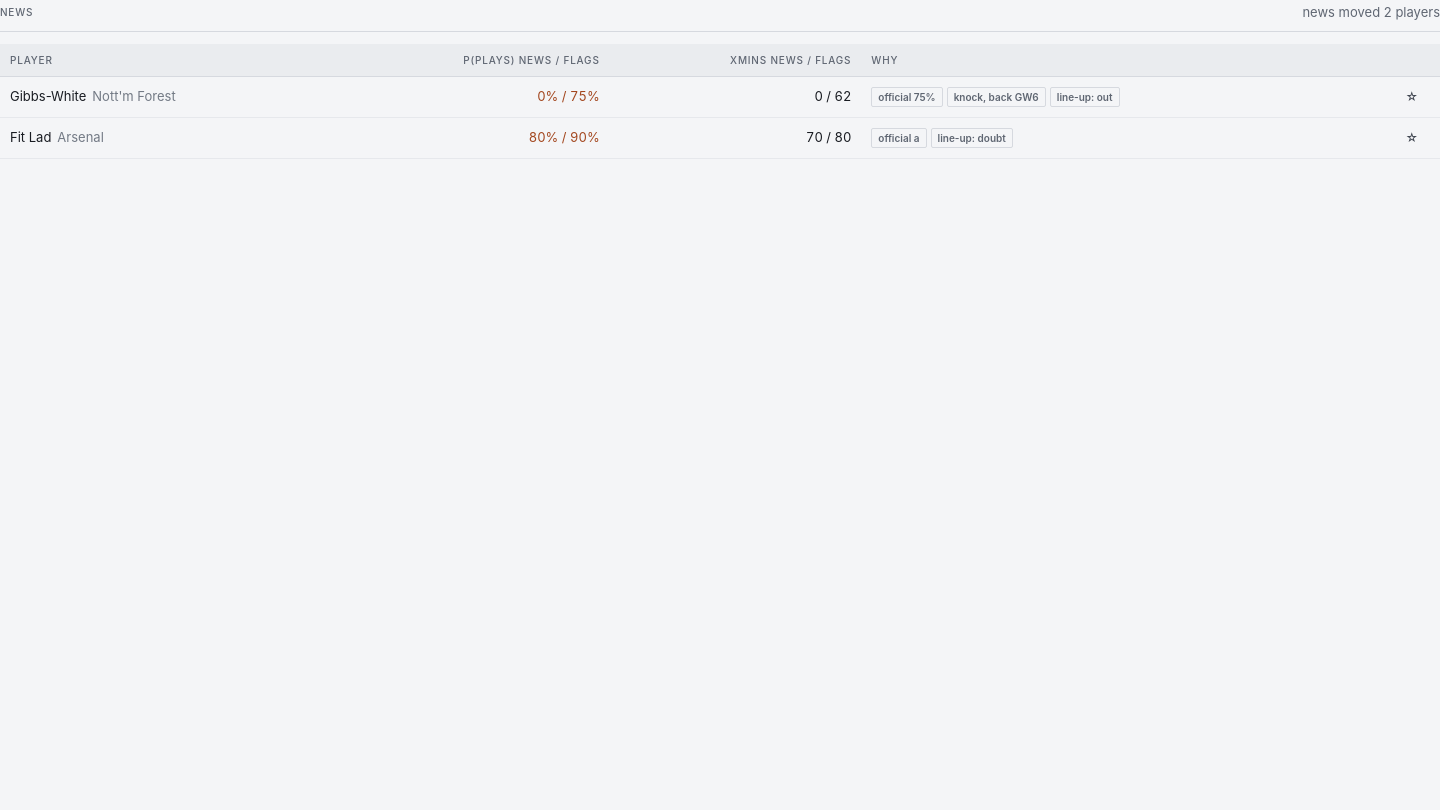
Test: NewsPanel › offers the pin on every moved row, not just the first
This screenshot has width=1440, height=810.
Check: the button "Fit Lad" is shown, box [10,128,51,147]
Click the button named "pin Fit Lad": (1412, 138) [1394,124,1430,152]
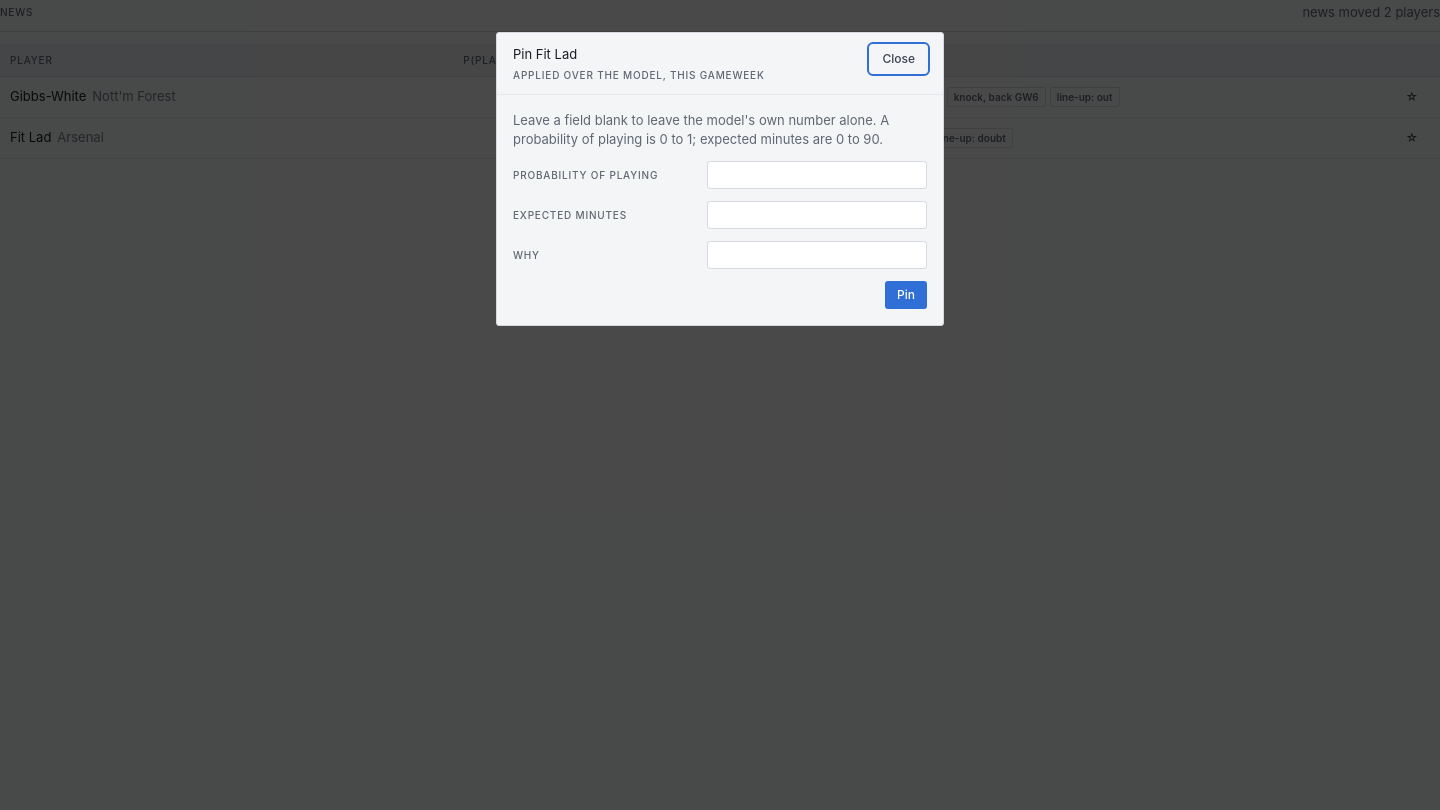
Check: the heading "Pin Fit Lad" is shown, box [513,46,577,62]
